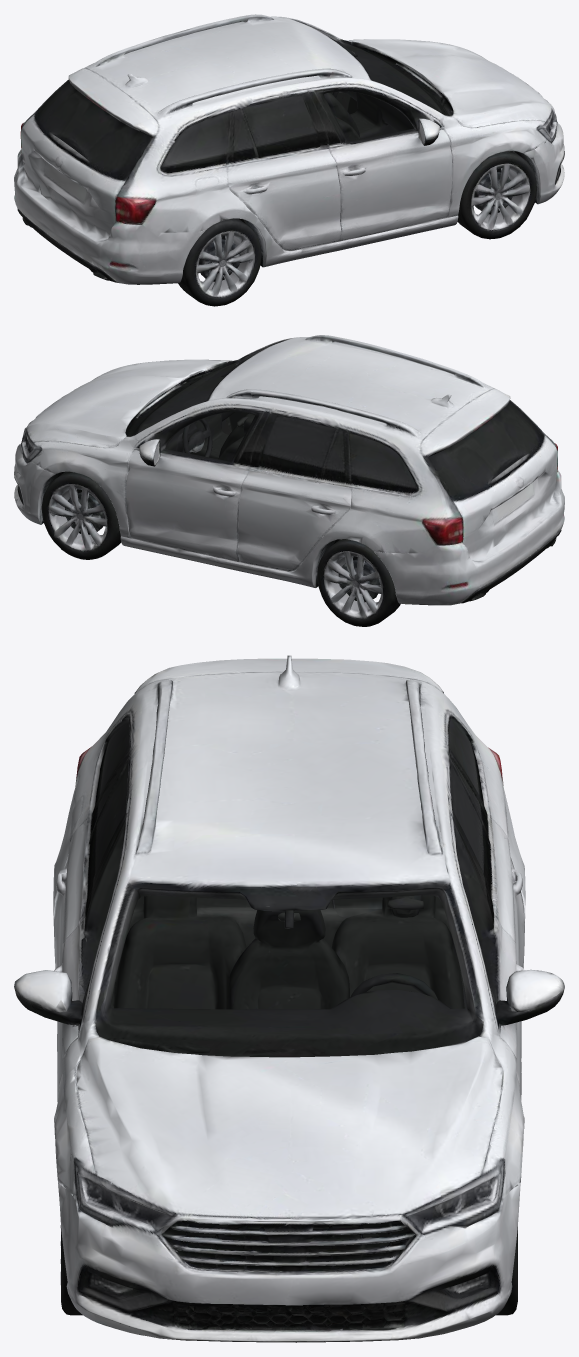
The model's file is veh_kombi.glb.
3 renders of one model, top to bottom at view 1: azimuth 30°, elevation 25°; view 2: azimuth 150°, elevation 25°; view 3: azimuth 270°, elevation 25°, orthographic. The views are drawn at different scales.
Visible parts, largest first — view 1: tripo_node_6ac90092-b81d-4d2d-ace8-d952ccff17f2; view 2: tripo_node_6ac90092-b81d-4d2d-ace8-d952ccff17f2; view 3: tripo_node_6ac90092-b81d-4d2d-ace8-d952ccff17f2.
Part boxes in pixels (bbox=[...]): tripo_node_6ac90092-b81d-4d2d-ace8-d952ccff17f2: bbox=[14, 14, 564, 306]; tripo_node_6ac90092-b81d-4d2d-ace8-d952ccff17f2: bbox=[14, 335, 564, 626]; tripo_node_6ac90092-b81d-4d2d-ace8-d952ccff17f2: bbox=[14, 655, 564, 1342].
Bounding box in the file's own units: 0.9797 × 0.3806 × 0.516.
Materials: 1 (1 with a texture image).
